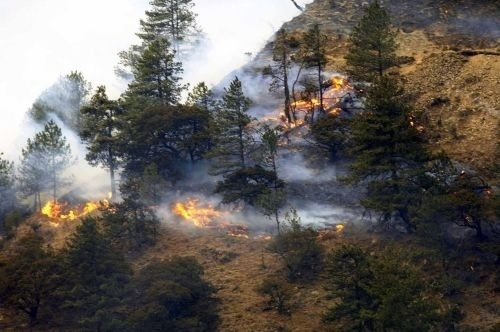fire: (271, 72, 352, 128), (170, 194, 261, 236), (34, 189, 114, 224)
